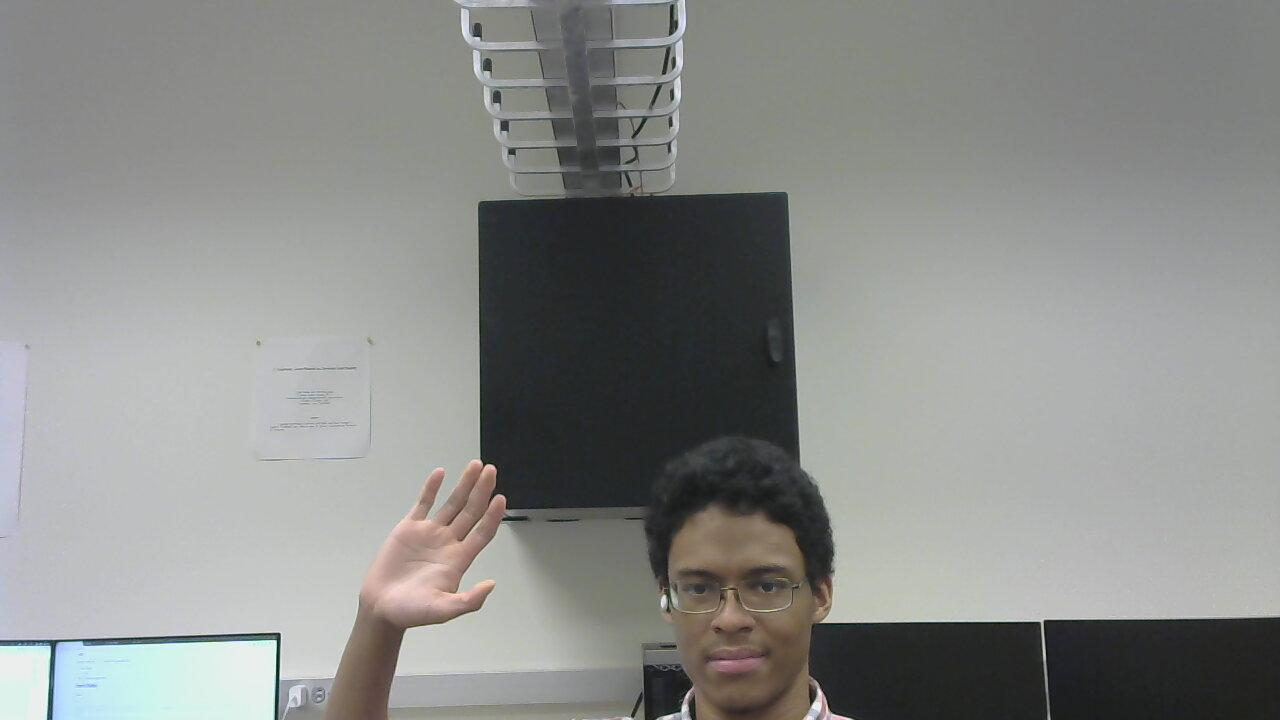hands: (358, 457, 554, 639)
